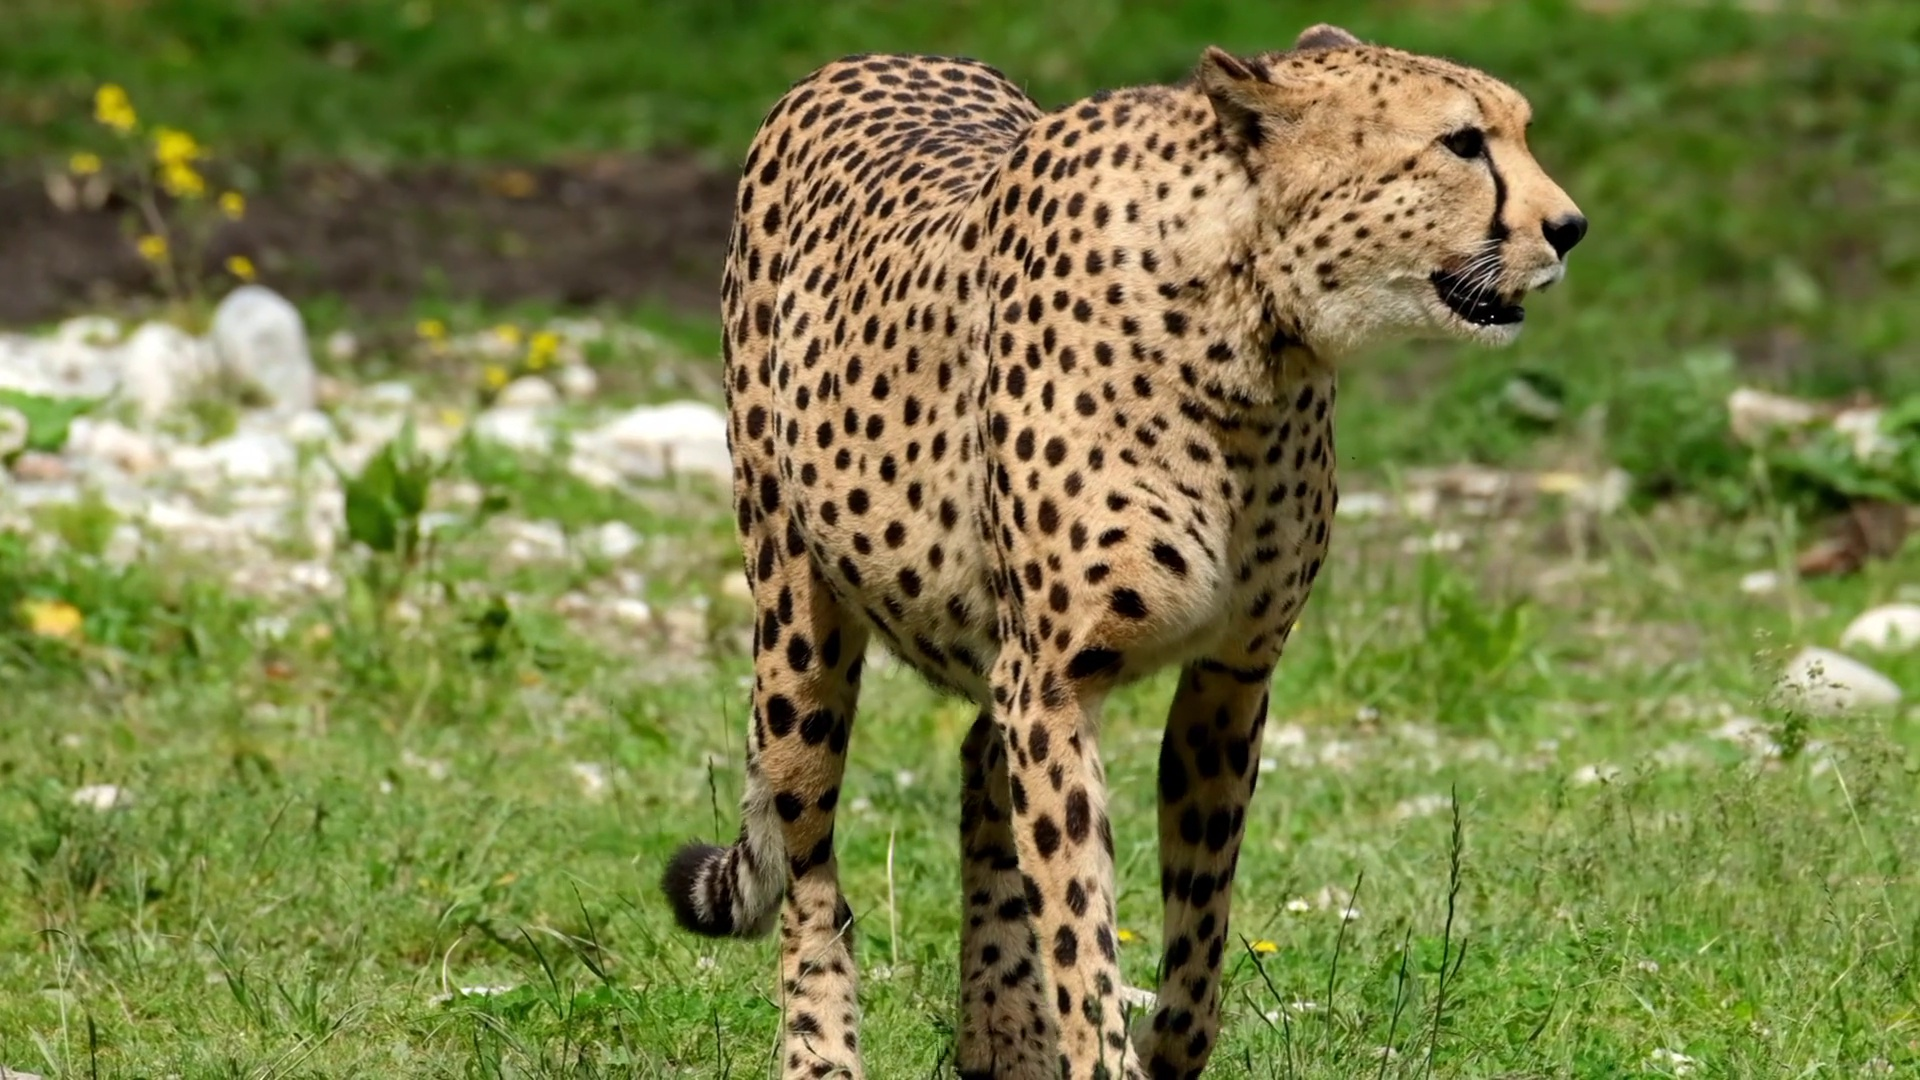Cheetah: (657, 16, 1590, 1080)
